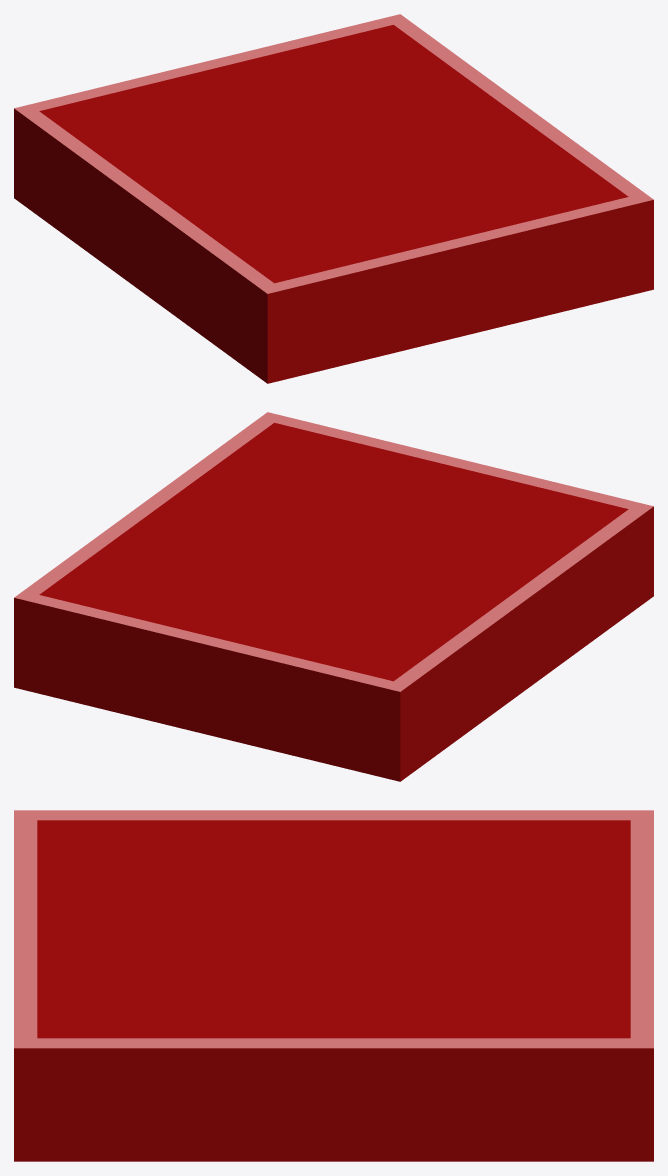
File: RedBlock01.fbx
3 renders of one model, top to bottom at view 1: azimuth 30°, elevation 25°; view 2: azimuth 150°, elevation 25°; view 3: azimuth 270°, elevation 25°, orthographic. The views are drawn at different scales.
Visible parts, largest first — view 1: RedBlock01; view 2: RedBlock01; view 3: RedBlock01.
Boxes of the visible parts, x1,y1,x2,y2 form: RedBlock01: [14, 14, 653, 383]; RedBlock01: [14, 412, 653, 781]; RedBlock01: [14, 810, 653, 1161].
Size of the model in its own units: 202 by 44.98 by 230.
